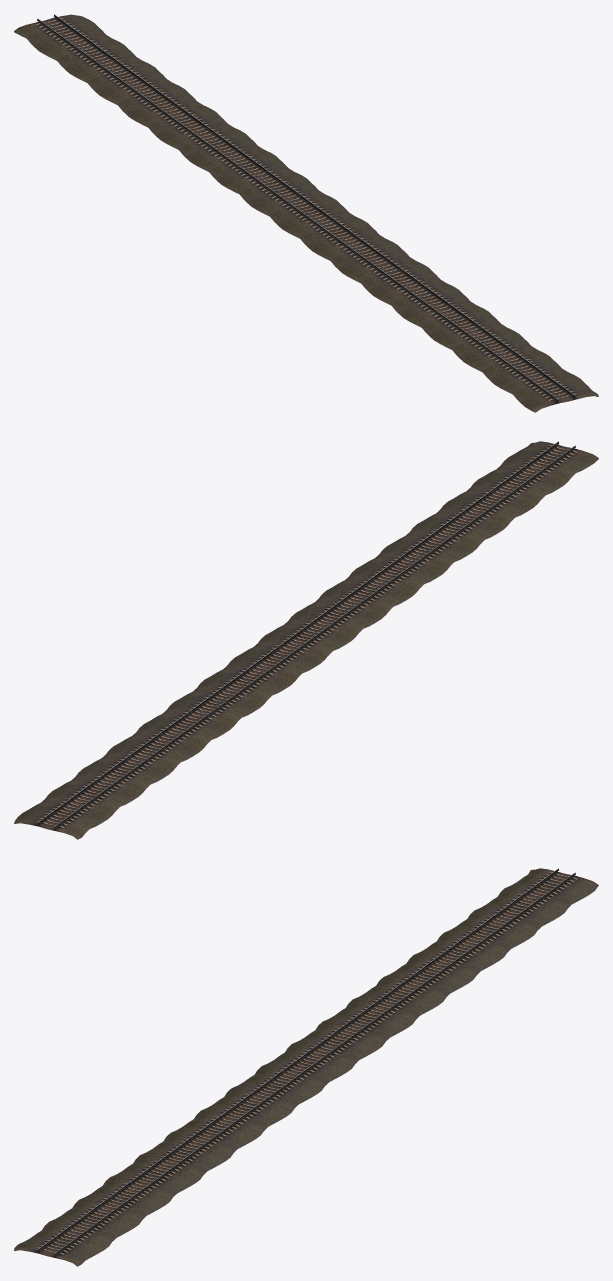
Rendered from 1track_85_TSM.gltf.
The picture shows the model from 3 angles, top to bottom: view 1: azimuth 30°, elevation 25°; view 2: azimuth 150°, elevation 25°; view 3: azimuth 330°, elevation 25°; orthographic projection.
Size of the model in its own units: 6.7 by 0.6438 by 85.8.
Materials: 1 (1 with a texture image).
